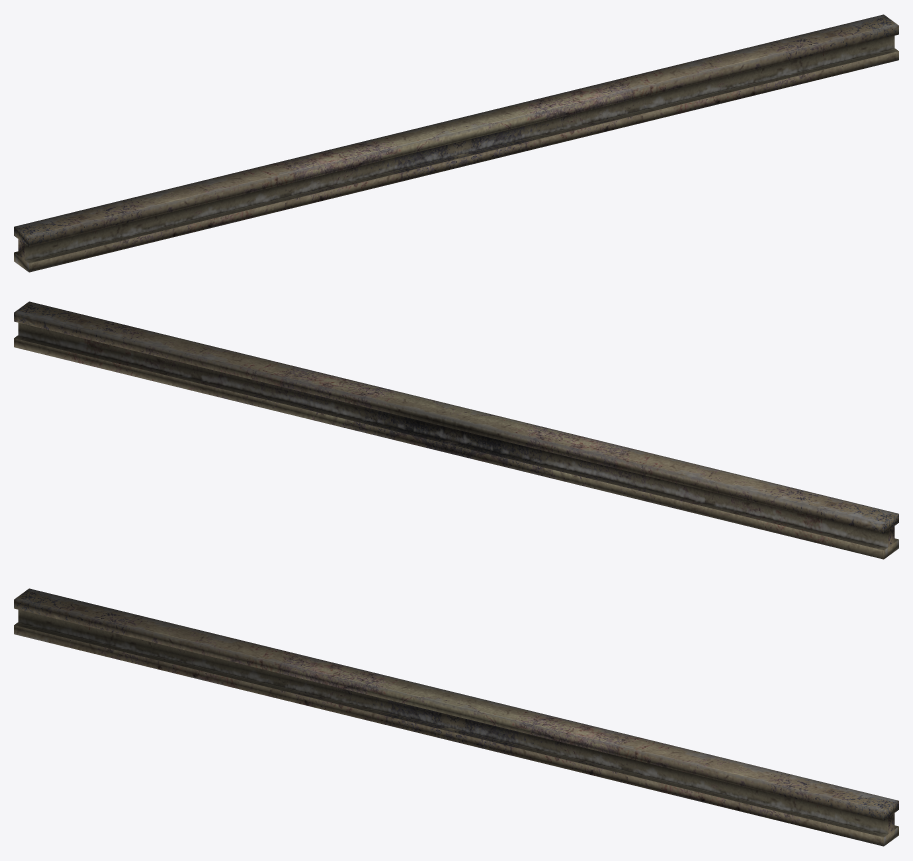
Rendered from free_iron_rod.glb.
The picture shows the model from 3 angles, top to bottom: view 1: azimuth 30°, elevation 25°; view 2: azimuth 150°, elevation 25°; view 3: azimuth 330°, elevation 25°; orthographic projection.
Parts seen in each view (by area): view 1: rod; view 2: rod; view 3: rod.
Part boxes in pixels (left/top/right/bottom): rod: left=14, top=14, right=898, bottom=272; rod: left=14, top=301, right=898, bottom=559; rod: left=14, top=588, right=898, bottom=846.
Bounding box in the file's own units: 209 × 7.95 × 6.28.
1 material, 1 textured.
